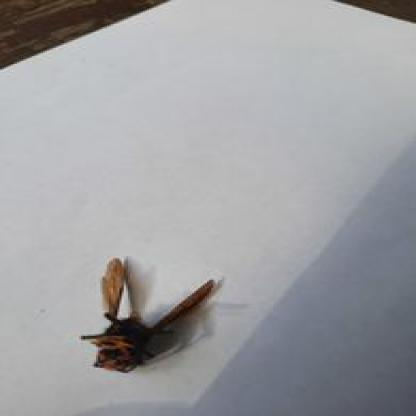Asian Hornet: (81, 254, 223, 380)
